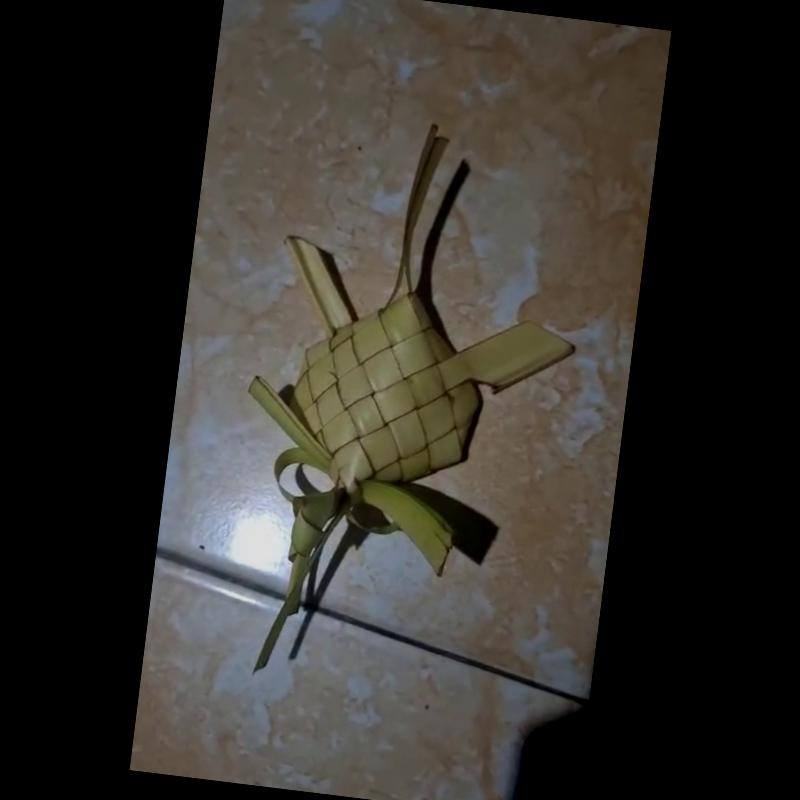Tipat Dampulan: (239, 125, 577, 665)
